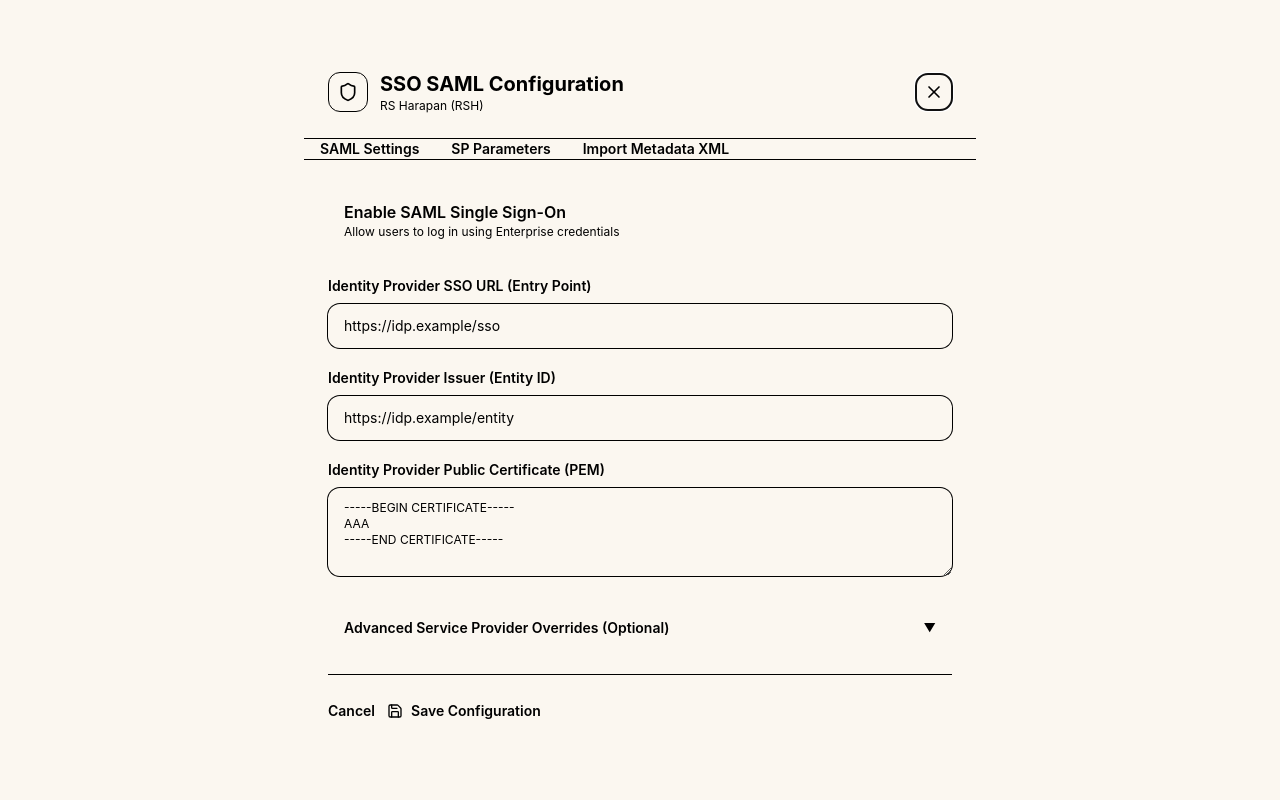
SsoSettingsPanel › importing IdP metadata fills the SAML fields and returns to the settings tab
expect the field labelled "Identity Provider SSO URL (Entry Point)" holds "https://idp.example/sso": met, box [328,304,952,348]
Step 1. Click the button "Import Metadata XML" → (656,148), box [567,138,745,158]
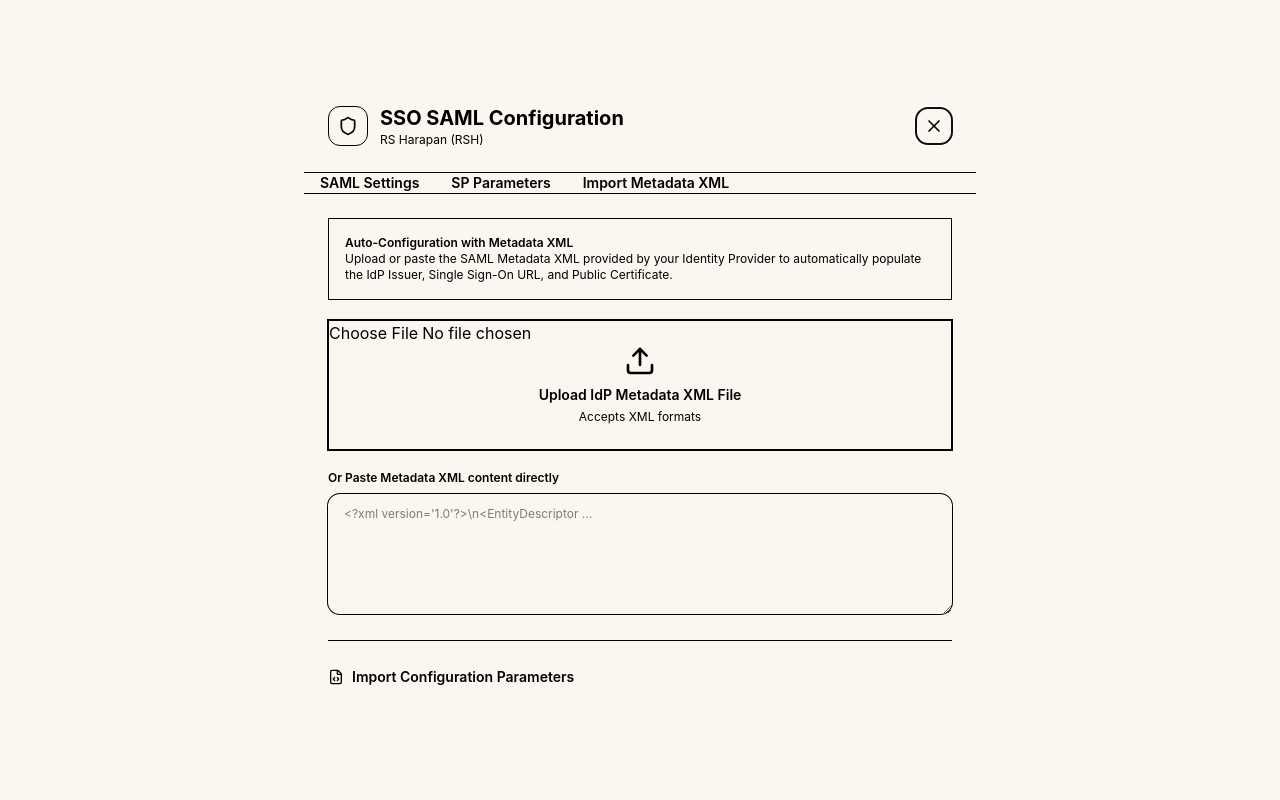
expect the button "Import Configuration Parameters" is disabled: met, box [328,656,574,696]
Step 2. Type "<?xml version=\"1.0\"?> <md:EntityDescriptor xmlns:md=\"urn:oasis:names:tc:SAML:2.0:metadata\" xmlns:ds=\"http://www.w3.org/2000/09/xmldsig#\" entityID=\"https://okta.example/entity\">   <md:IDPSSODescriptor>" into the text box labelled "Or Paste Metadata XML content directly" → (640,554), box [328,494,952,614]
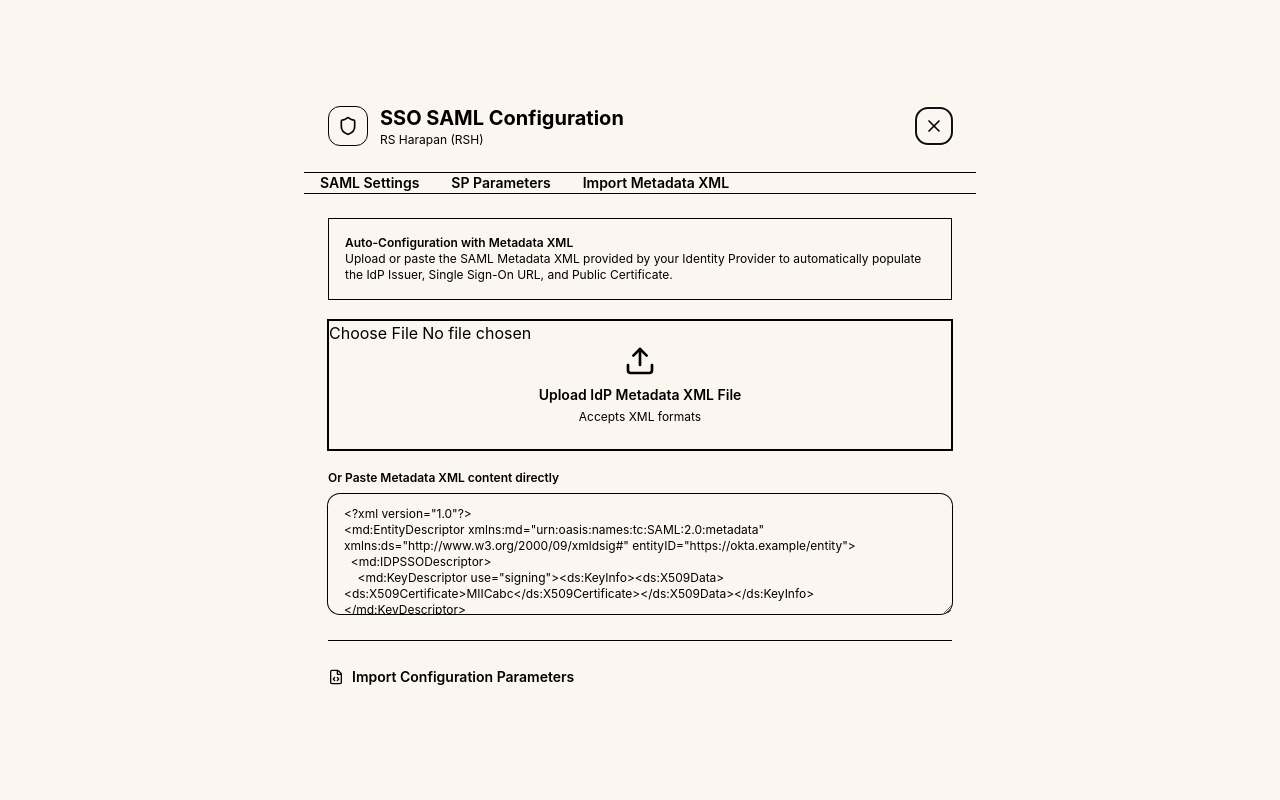
Step 3. Click the button "Import Configuration Parameters" → (451,676), box [328,656,574,696]
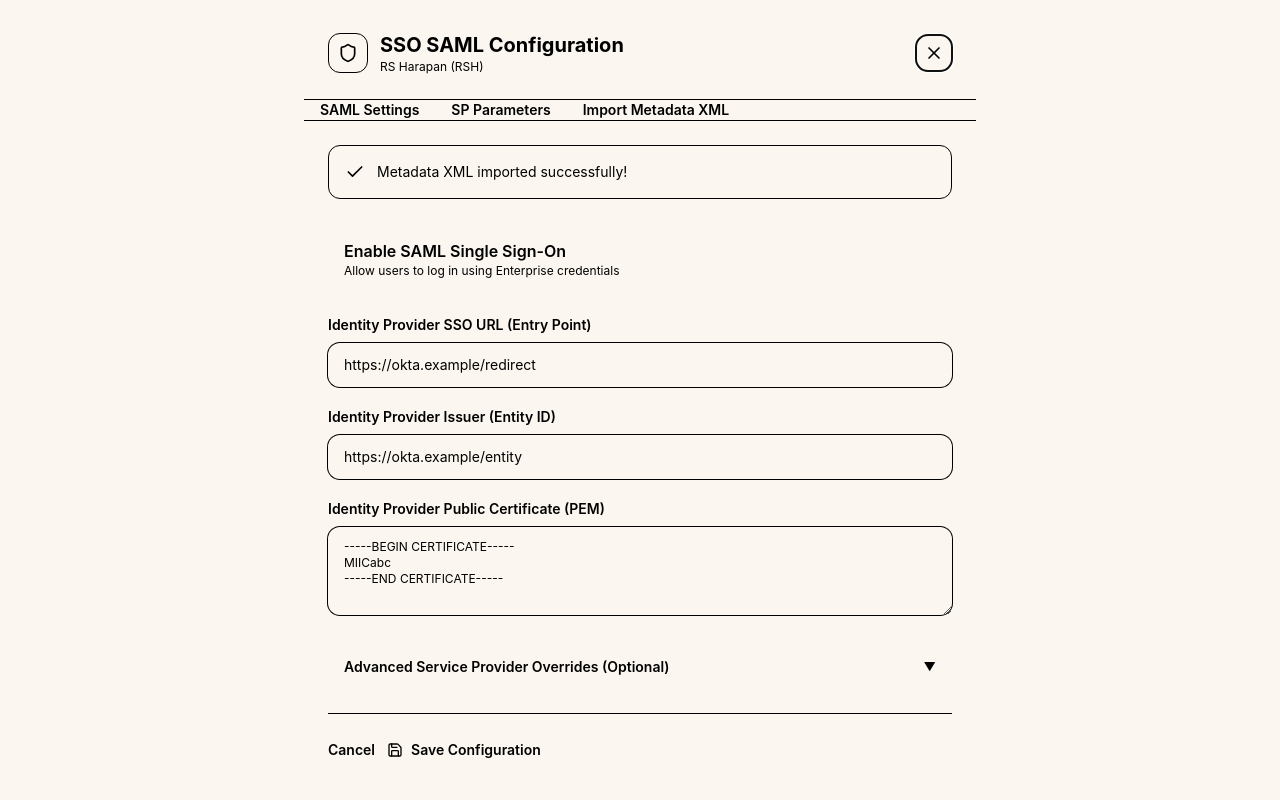
expect the text "Metadata XML imported successfully!" is shown: met, box [328,144,952,198]
expect the field labelled "Identity Provider SSO URL (Entry Point)" holds "https://okta.example/redirect": met, box [328,342,952,386]
expect the field labelled "Identity Provider Issuer (Entity ID)" holds "https://okta.example/entity": met, box [328,434,952,478]
